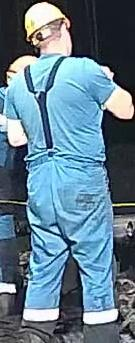helmet: (23, 0, 67, 42)
